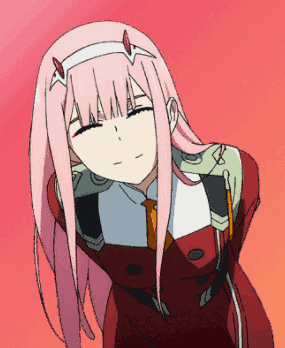zeroTwo: (35, 18, 185, 186)
